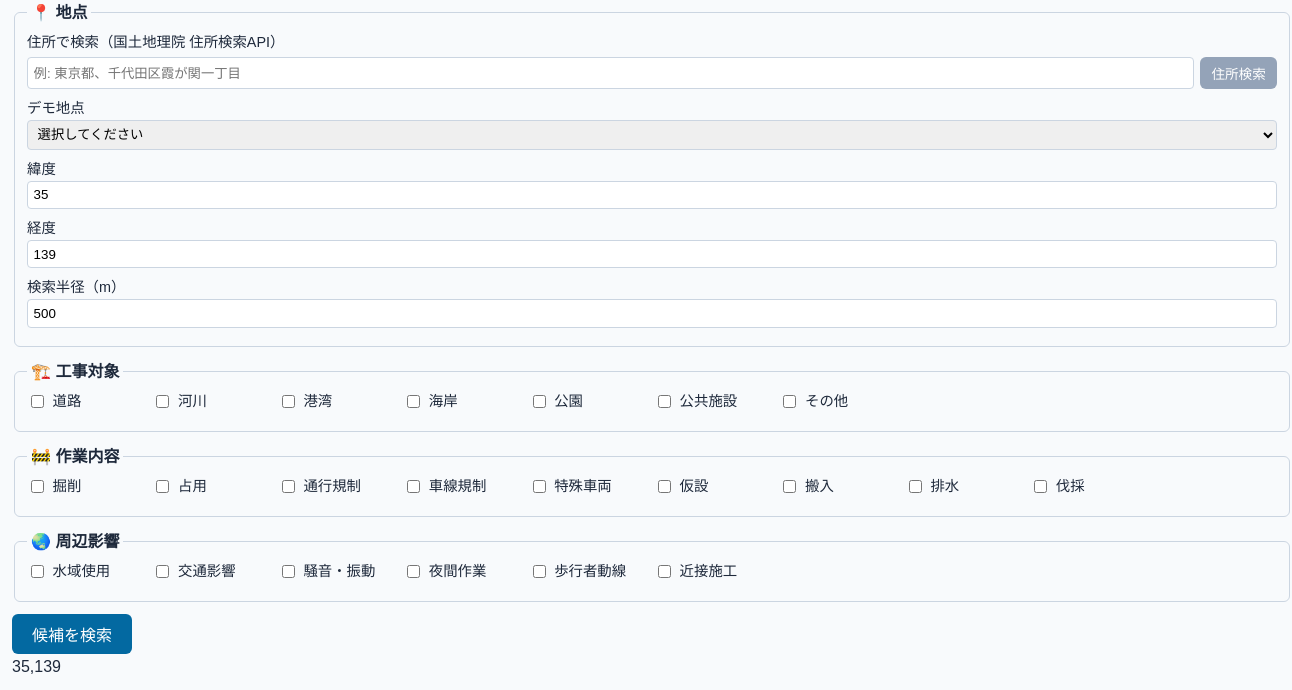
住所検索の補完（オートコンプリート） › Escape で候補リストを閉じる（入力値は保持）
Type "東京都" into the dropdown labelled "住所で検索（国土地理院 住所検索API） 住所検索" at (610, 73), box top-left (27, 57), bottom-right (1194, 89)
Wait 400 ms
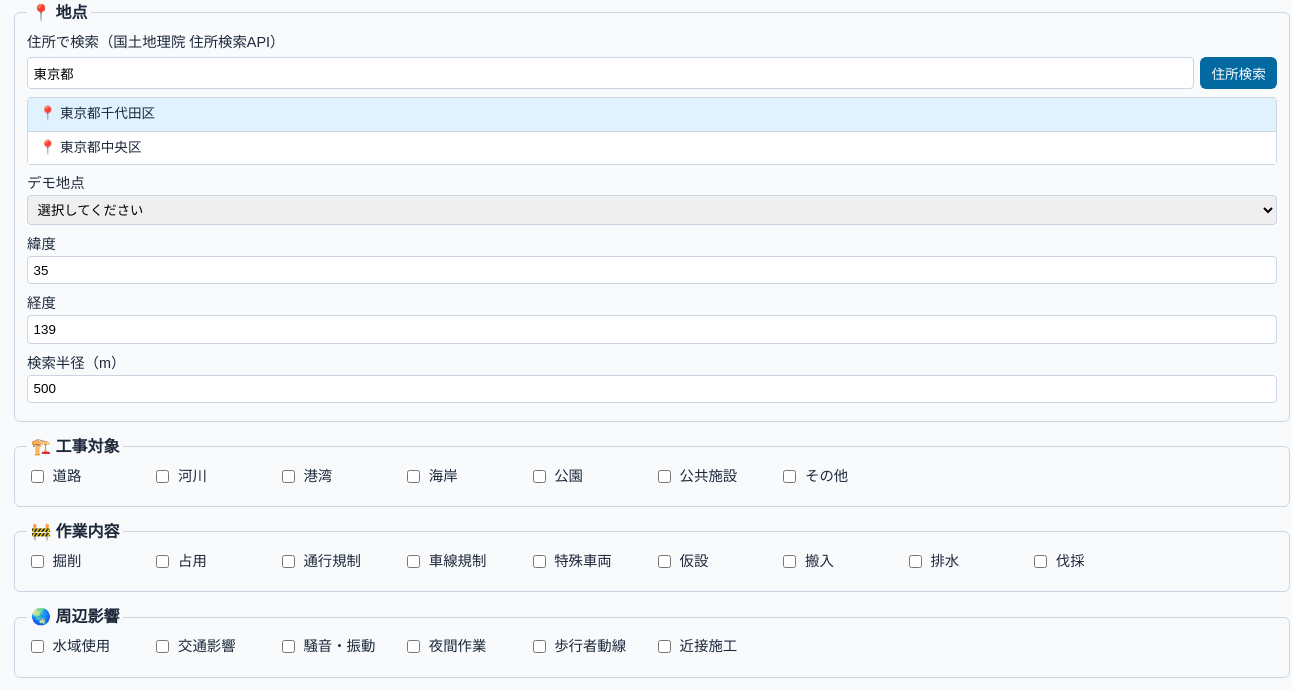
Press Escape in the dropdown labelled "住所で検索（国土地理院 住所検索API） 住所検索", box top-left (27, 57), bottom-right (1194, 89)
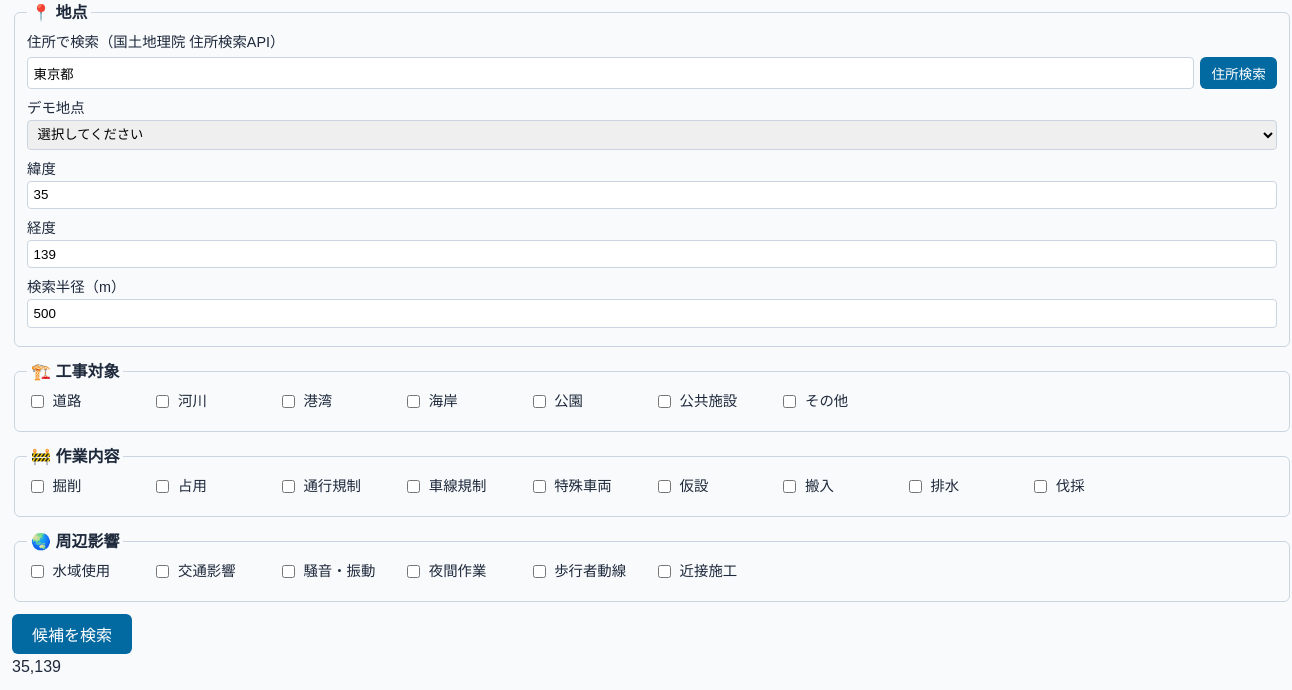
Now the list is gone
